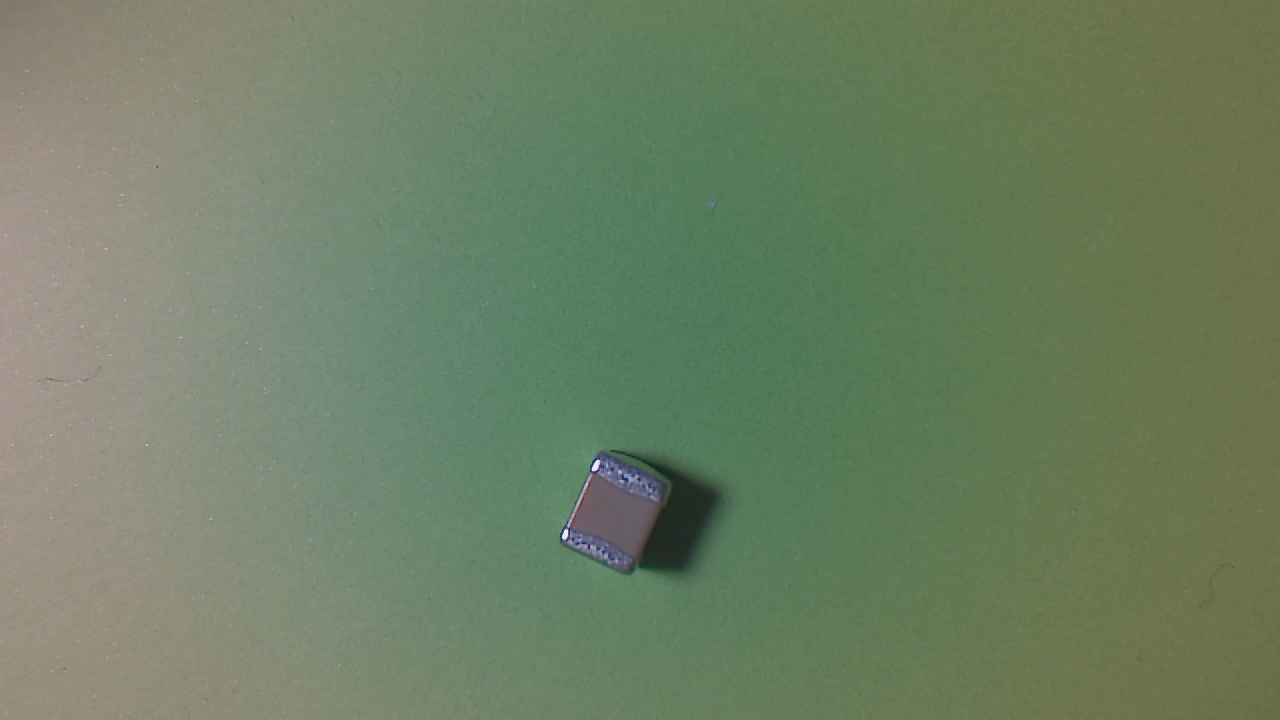Condensator: (563, 449, 680, 586)
